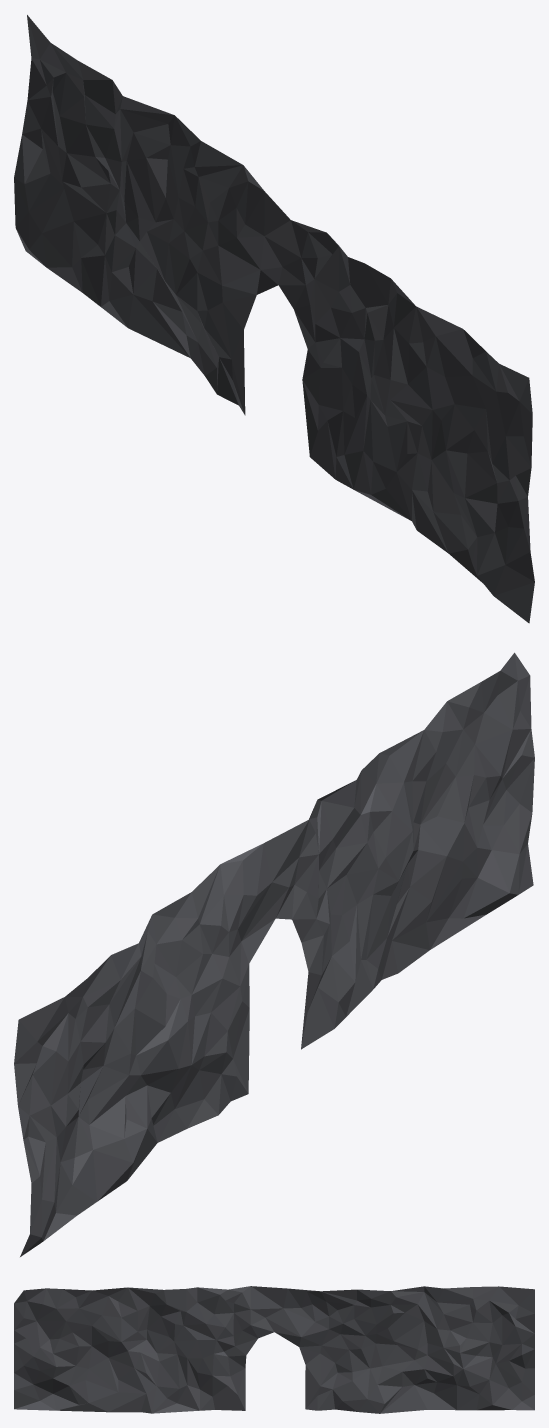
Rendered from Mur_A_Alchimiste.FBX.
3 views of the same model, one above another, from view 1: azimuth 30°, elevation 25°; view 2: azimuth 150°, elevation 25°; view 3: azimuth 270°, elevation 25° (orthographic). The views are drawn at different scales.
Visible parts, largest first — view 1: Mur_A_Alchimiste; view 2: Mur_A_Alchimiste; view 3: Mur_A_Alchimiste.
Part boxes in pixels (bbox=[...]): Mur_A_Alchimiste: bbox=[14, 15, 534, 623]; Mur_A_Alchimiste: bbox=[14, 652, 534, 1256]; Mur_A_Alchimiste: bbox=[14, 1286, 534, 1413].
Size of the model in its own units: 60.87 by 422 by 1640.
1 material, 1 textured.
